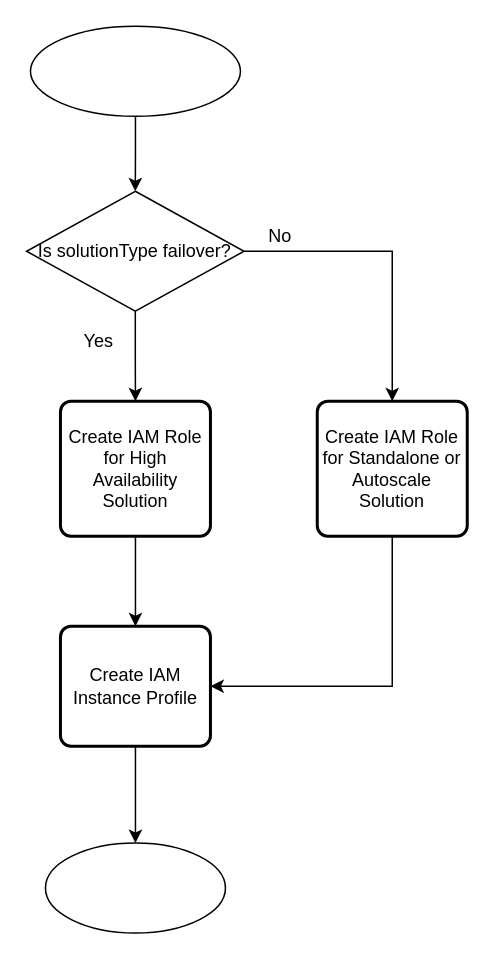
The diagram is 495 pixels wide and 972 high, and some of its shapes have lost their labels. The box of each missing label's shape, as (x1, y1, x2, y2) in pixels:
End: (44, 842, 225, 933)
Start: (29, 25, 240, 116)
